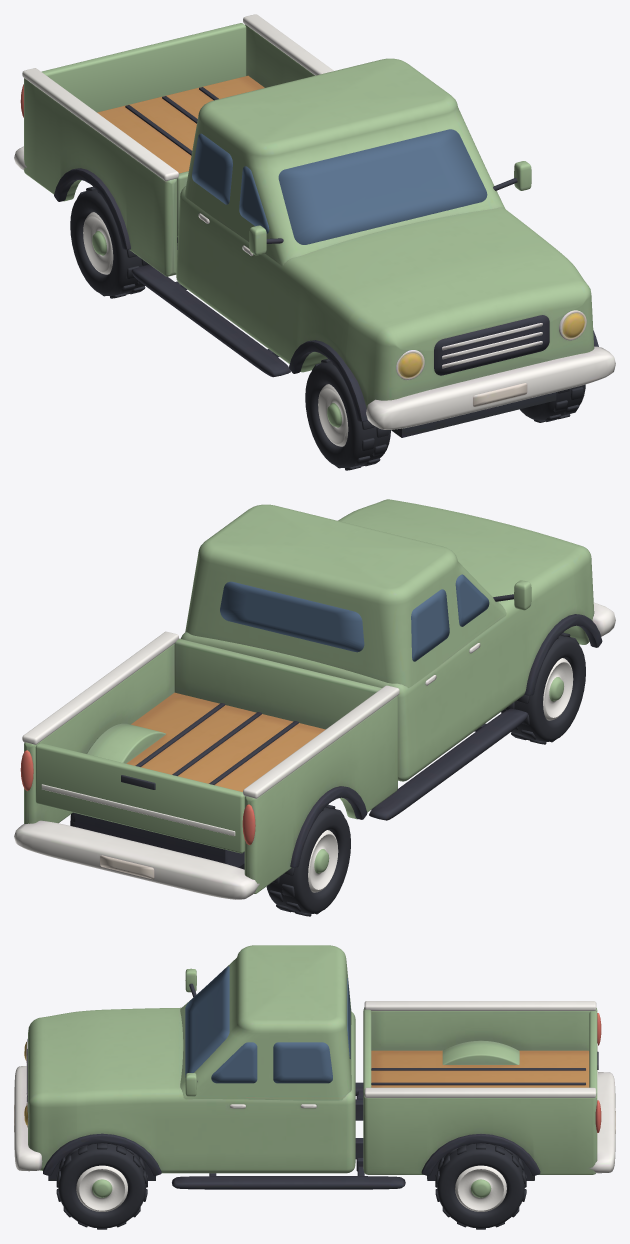
Rendered from pickup.glb.
3 renders of one model, top to bottom at view 1: azimuth 30°, elevation 25°; view 2: azimuth 150°, elevation 25°; view 3: azimuth 270°, elevation 25°, orthographic. The views are drawn at different scales.
Parts seen in each view (by area): view 1: pickup-truck_body, pickup-truck_windows, pickup-truck_tailgate, pickup-truck_wheel_fr, pickup-truck_wheel_rr, pickup-truck_wheel_fl; view 2: pickup-truck_body, pickup-truck_tailgate, pickup-truck_windows, pickup-truck_wheel_rr, pickup-truck_wheel_fr; view 3: pickup-truck_body, pickup-truck_windows, pickup-truck_wheel_fl, pickup-truck_wheel_rl, pickup-truck_tailgate.
Part boxes in pixels (<box>): pickup-truck_body: <box>14,14,615,437</box>; pickup-truck_windows: <box>192,129,487,244</box>; pickup-truck_tailgate: <box>41,23,246,112</box>; pickup-truck_wheel_fr: <box>305,359,390,470</box>; pickup-truck_wheel_rr: <box>70,187,150,298</box>; pickup-truck_wheel_fl: <box>520,384,585,422</box>; pickup-truck_body: <box>14,499,615,899</box>; pickup-truck_tailgate: <box>35,743,244,853</box>; pickup-truck_windows: <box>220,574,489,661</box>; pickup-truck_wheel_rr: <box>266,804,350,916</box>; pickup-truck_wheel_fr: <box>501,632,585,744</box>; pickup-truck_body: <box>14,945,615,1189</box>; pickup-truck_windows: <box>185,966,350,1083</box>; pickup-truck_wheel_fl: <box>56,1143,147,1229</box>; pickup-truck_wheel_rl: <box>435,1143,526,1229</box>; pickup-truck_tailgate: <box>589,1011,598,1100</box>.
Size of the model in its own units: 2.26 by 1.97 by 5.28.
Materials: 17 (1 with a texture image).
